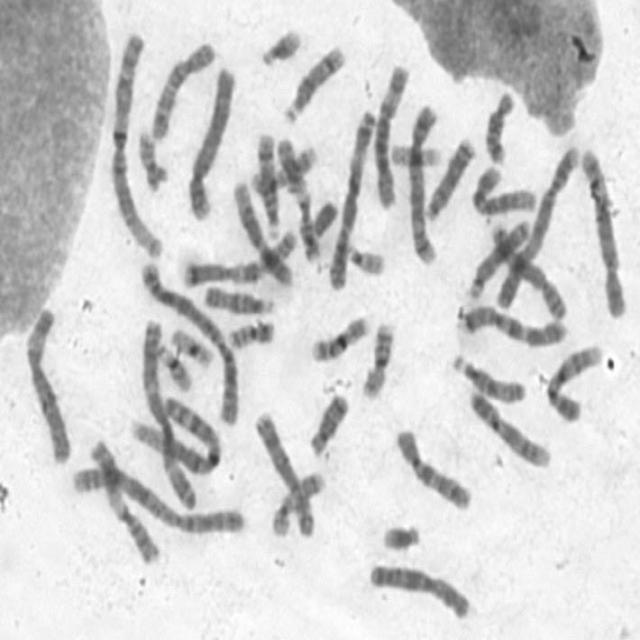A1: (107, 27, 164, 261), (128, 391, 224, 478)
A2: (135, 258, 242, 431), (70, 460, 248, 536)
A3: (137, 312, 199, 513), (324, 105, 377, 294)
B4: (489, 138, 582, 315), (185, 61, 238, 222)
B5: (577, 142, 629, 322), (403, 99, 442, 268)
C10: (390, 422, 475, 514), (148, 36, 217, 144)
C11: (86, 434, 164, 568), (273, 132, 322, 262)
C12: (229, 178, 295, 288), (467, 160, 537, 216)
C6: (21, 302, 74, 467), (370, 59, 413, 213)
C7: (178, 226, 300, 287), (453, 300, 569, 348)
C8: (251, 407, 317, 541), (485, 218, 569, 322)
C9: (466, 387, 552, 471), (542, 339, 605, 423)
D13: (462, 214, 532, 302), (423, 132, 477, 222)
D14: (279, 39, 348, 126), (253, 127, 282, 240)
D15: (448, 350, 528, 406), (200, 281, 276, 317)
E16: (308, 311, 372, 364), (358, 316, 397, 402)
E17: (269, 466, 328, 540), (248, 139, 319, 195)
E18: (306, 387, 352, 458), (482, 87, 516, 165)
F19: (167, 322, 215, 370), (386, 138, 444, 170)
F20: (133, 126, 168, 190), (224, 315, 277, 352)
G21: (257, 21, 305, 68), (376, 519, 424, 555)
G22: (153, 340, 194, 393), (342, 238, 386, 278)
X: (365, 559, 472, 622)
Y: (309, 195, 340, 240)
